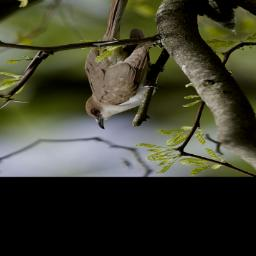Cuckoo: (4, 0, 219, 130)
